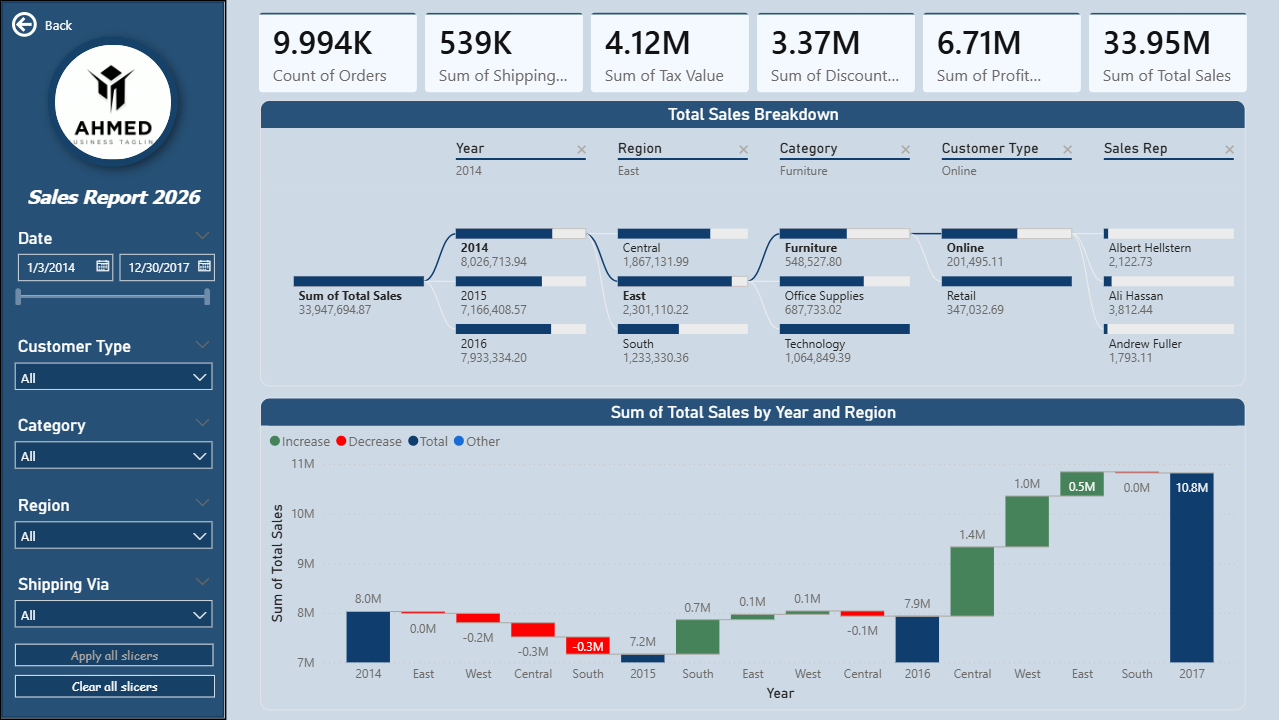

This screenshot's page, from the dashboard's own definition file:
{"tool":"powerbi","page":{"name":"2","canvas":[1280,720],"ordinal":1},"visuals":[{"type":"shape","box":[0,0,226.2,720],"z":0},{"type":"shape","box":[32.8,21.3,160,160],"z":1000},{"type":"image","box":[55,44.6,116,114.7],"z":2000},{"type":"textbox","box":[0,181.2,226.2,38.8],"z":3000},{"type":"slicer","fields":{"Values":["DateTable.Date"]},"box":[10,227.3,207.5,100],"z":4000},{"type":"slicer","fields":{"Values":["Customers.Customer Type"]},"box":[10,336.4,207.5,70],"z":5000},{"type":"slicer","fields":{"Values":["Products.Category"]},"box":[10,415.5,207.5,70],"z":6000},{"type":"slicer","fields":{"Values":["Shipping.Region"]},"box":[10,494.6,207.5,70],"z":7000},{"type":"slicer","fields":{"Values":["Orders.Shipping Via"]},"box":[10,573.8,207.5,70],"z":8000},{"type":"actionButton","box":[15,643.8,198.8,22.5],"z":9000},{"type":"actionButton","box":[15,675.6,200,22],"z":10000},{"type":"waterfallChart","fields":{"Category":["DateTable.Year"],"Y":["Sum(Orders_details.Total Sales)"],"Breakdown":["Shipping.Region"]},"box":[260,397.4,985.3,312.6],"z":11000},{"type":"decompositionTreeVisual","title":"Total Sales Breakdown","fields":{"Analyze":["Sum(Orders_details.Total Sales)"],"ExplainBy":["DateTable.Year Hierarchy.Year","Shipping.Region","Products.Category","Customers.Customer Type","Sales_Reps.Sales Rep","Customers.Gender"]},"box":[260,100,985.3,286.3],"z":12000},{"type":"actionButton","box":[7.5,7.5,68.8,33.8],"z":13000},{"type":"cardVisual","fields":{"Data":["CountNonNull(Orders_details.Order ID)","Sum(Orders_details.Shipping Cost)","Sum(Orders_details.Tax Value)","Sum(Orders_details.Discount Value)","Sum(Orders_details.Profit Value)","Sum(Orders_details.Total Sales)"]},"box":[238.6,12.1,1028.6,80],"z":14000}]}

Visuals, with their boxes on the page's 1280x720 design canvas (x1, y1, x2, y2). These are canvas units, not pixel positions in the 1279x720 screenshot, which may show the page scaled, cropped or inside an application window:
shape: locate(0, 0, 226, 720)
shape: locate(33, 21, 193, 181)
image: locate(55, 45, 171, 159)
textbox: locate(0, 181, 226, 220)
slicer - DateTable.Date: locate(10, 227, 218, 327)
slicer - Customers.Customer Type: locate(10, 336, 218, 406)
slicer - Products.Category: locate(10, 416, 218, 486)
slicer - Shipping.Region: locate(10, 495, 218, 565)
slicer - Orders.Shipping Via: locate(10, 574, 218, 644)
actionButton: locate(15, 644, 214, 666)
actionButton: locate(15, 676, 215, 698)
waterfallChart - DateTable.Year x Sum(Orders_details.Total Sales): locate(260, 397, 1245, 710)
"Total Sales Breakdown" decompositionTreeVisual: locate(260, 100, 1245, 386)
actionButton: locate(8, 8, 76, 41)
cardVisual - CountNonNull(Orders_details.Order ID) x Sum(Orders_details.Shipping Cost): locate(239, 12, 1267, 92)
